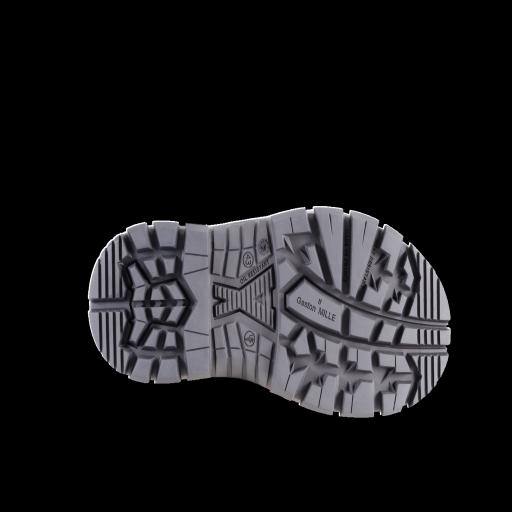safety_boots: (70, 200, 477, 426)
